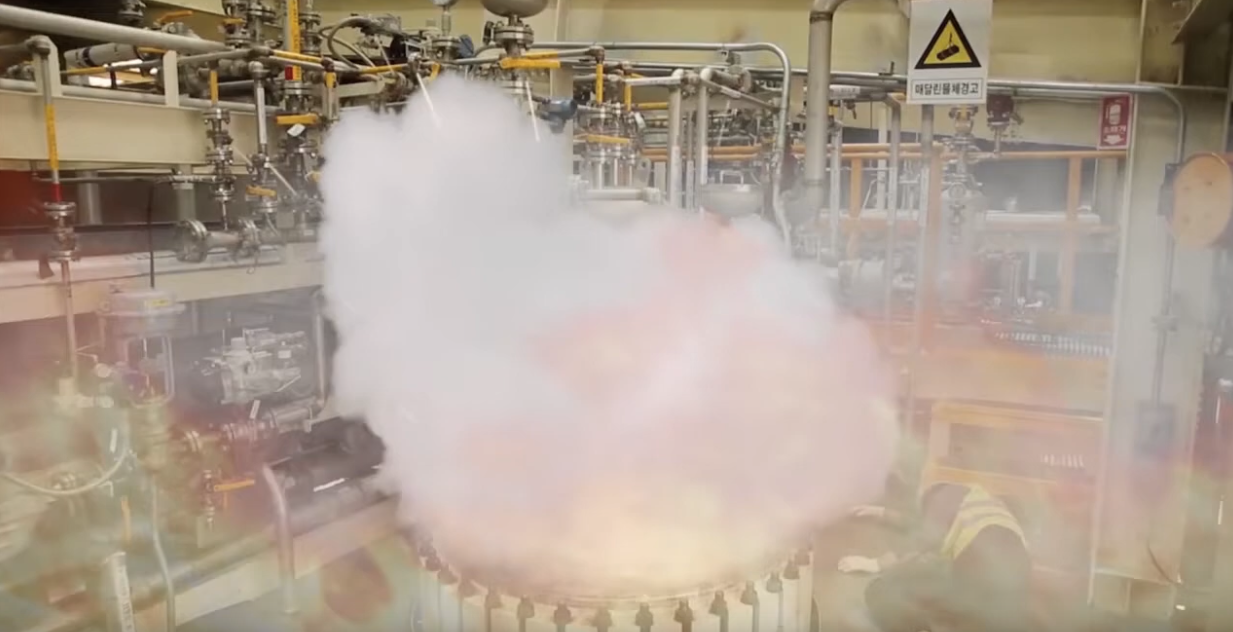smoke: (247, 58, 948, 594)
